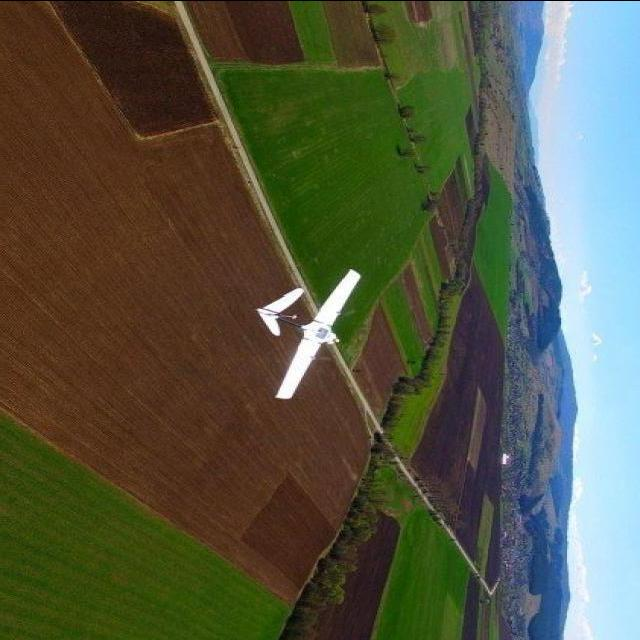UAV: (230, 264, 384, 411)
